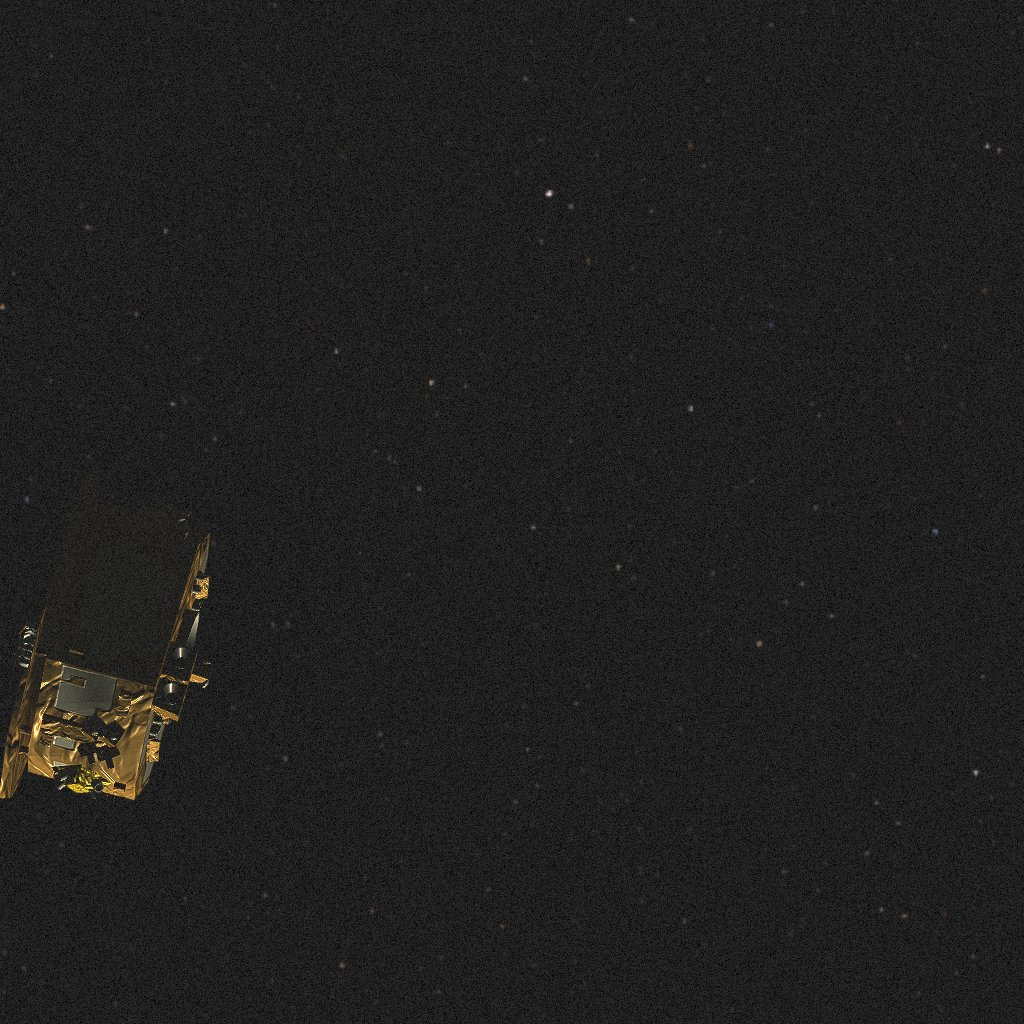lisa_pathfinder: (22, 493, 232, 798)
